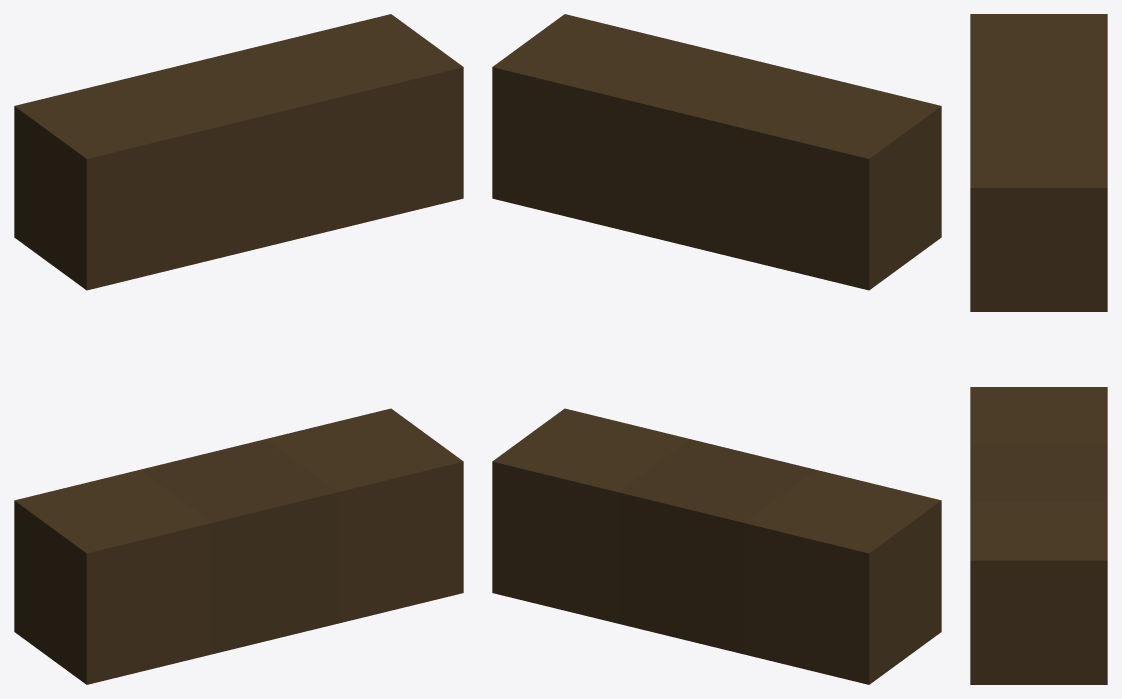
File: farm-43-fence_mid.obj
The picture shows the model from 3 angles, left to right: view 1: azimuth 30°, elevation 25°; view 2: azimuth 150°, elevation 25°; view 3: azimuth 270°, elevation 25°; orthographic projection. The views are drawn at different scales.
Visible parts, largest first — view 1: fence_mid; view 2: fence_mid; view 3: fence_mid.
Boxes of the visible parts, x1,y1,x2,y2 form: fence_mid: (14,14,463,684); fence_mid: (492,14,941,684); fence_mid: (970,14,1107,684).
Size of the model in its own units: 0.3 by 0.4 by 0.1.
1 material, 1 textured.
